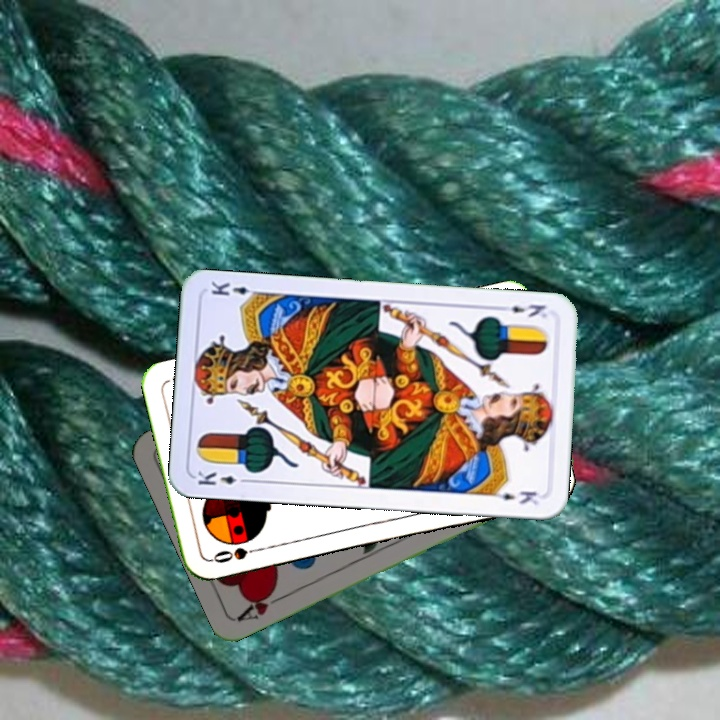EK: (193, 467, 252, 488), (495, 300, 550, 321)
HA: (234, 585, 290, 624)
SO: (207, 543, 266, 566)
